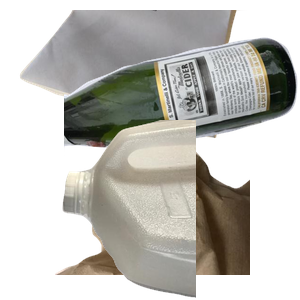glass: (64, 35, 300, 181)
paper: (17, 10, 254, 141)
plastic: (60, 120, 300, 300)
trash: (52, 120, 292, 300)
